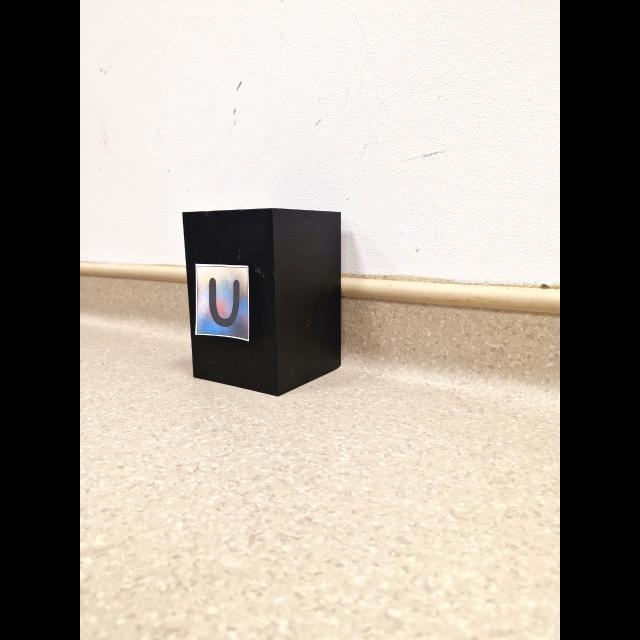U: (209, 276, 239, 327)
